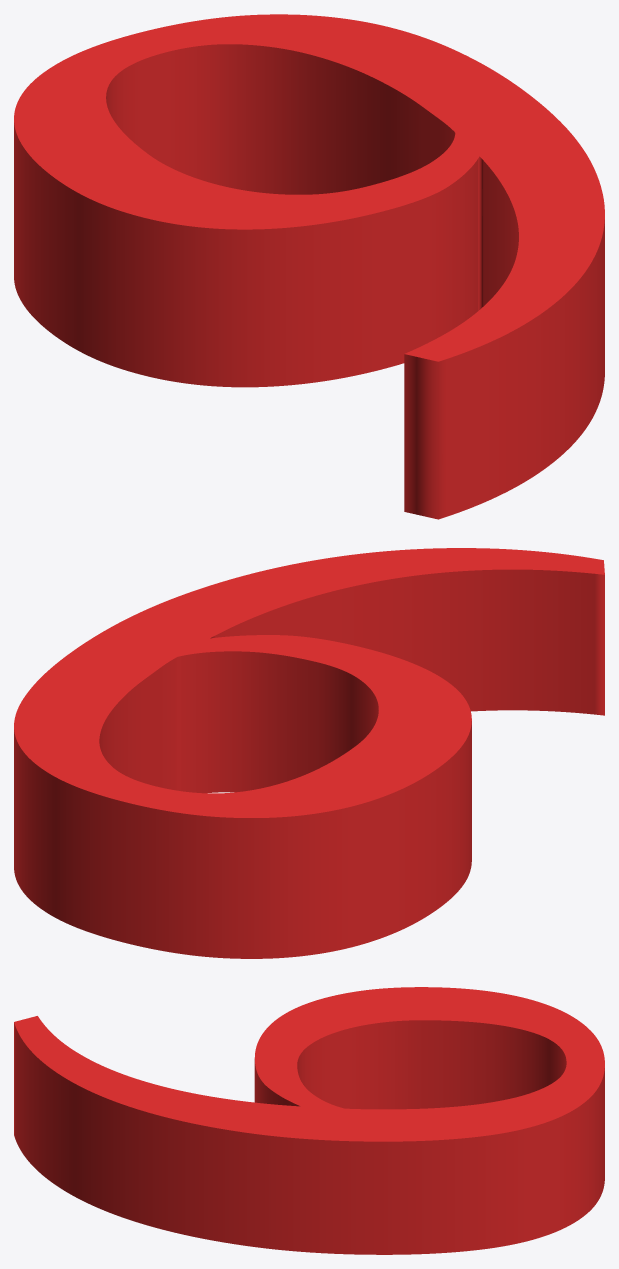
File: nine.glb
3 views of the same model, one above another, from view 1: azimuth 30°, elevation 25°; view 2: azimuth 150°, elevation 25°; view 3: azimuth 270°, elevation 25° (orthographic). The views are drawn at different scales.
Visible parts, largest first — view 1: Текст; view 2: Текст; view 3: Текст.
Part boxes in pixels (x1=…): Текст: x1=14, y1=14, x2=604, y2=519; Текст: x1=14, y1=548, x2=604, y2=958; Текст: x1=14, y1=987, x2=604, y2=1254.
Size of the model in its own units: 0.3514 by 0.12 by 0.5678.
